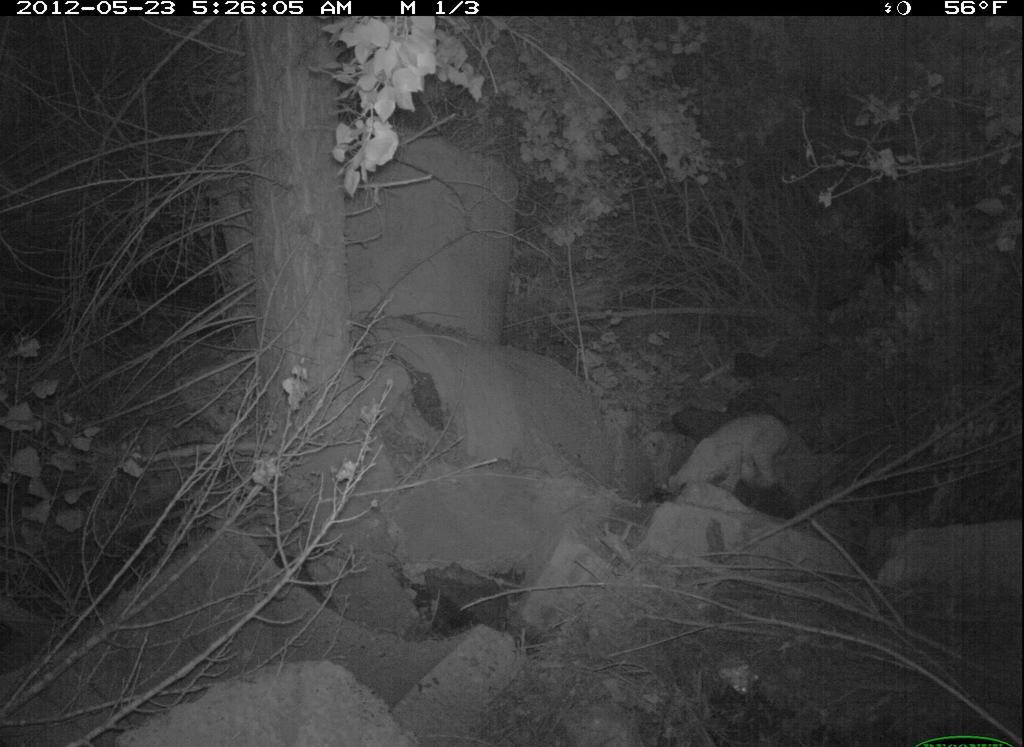bobcat: (651, 401, 802, 513)
